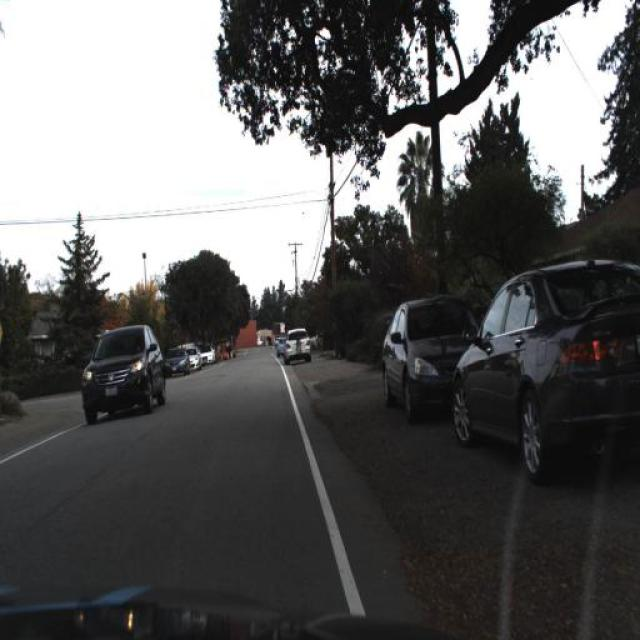car: (451, 256, 640, 488), (382, 294, 483, 420), (78, 322, 168, 426), (283, 327, 309, 363), (185, 344, 203, 372), (198, 340, 216, 368)
